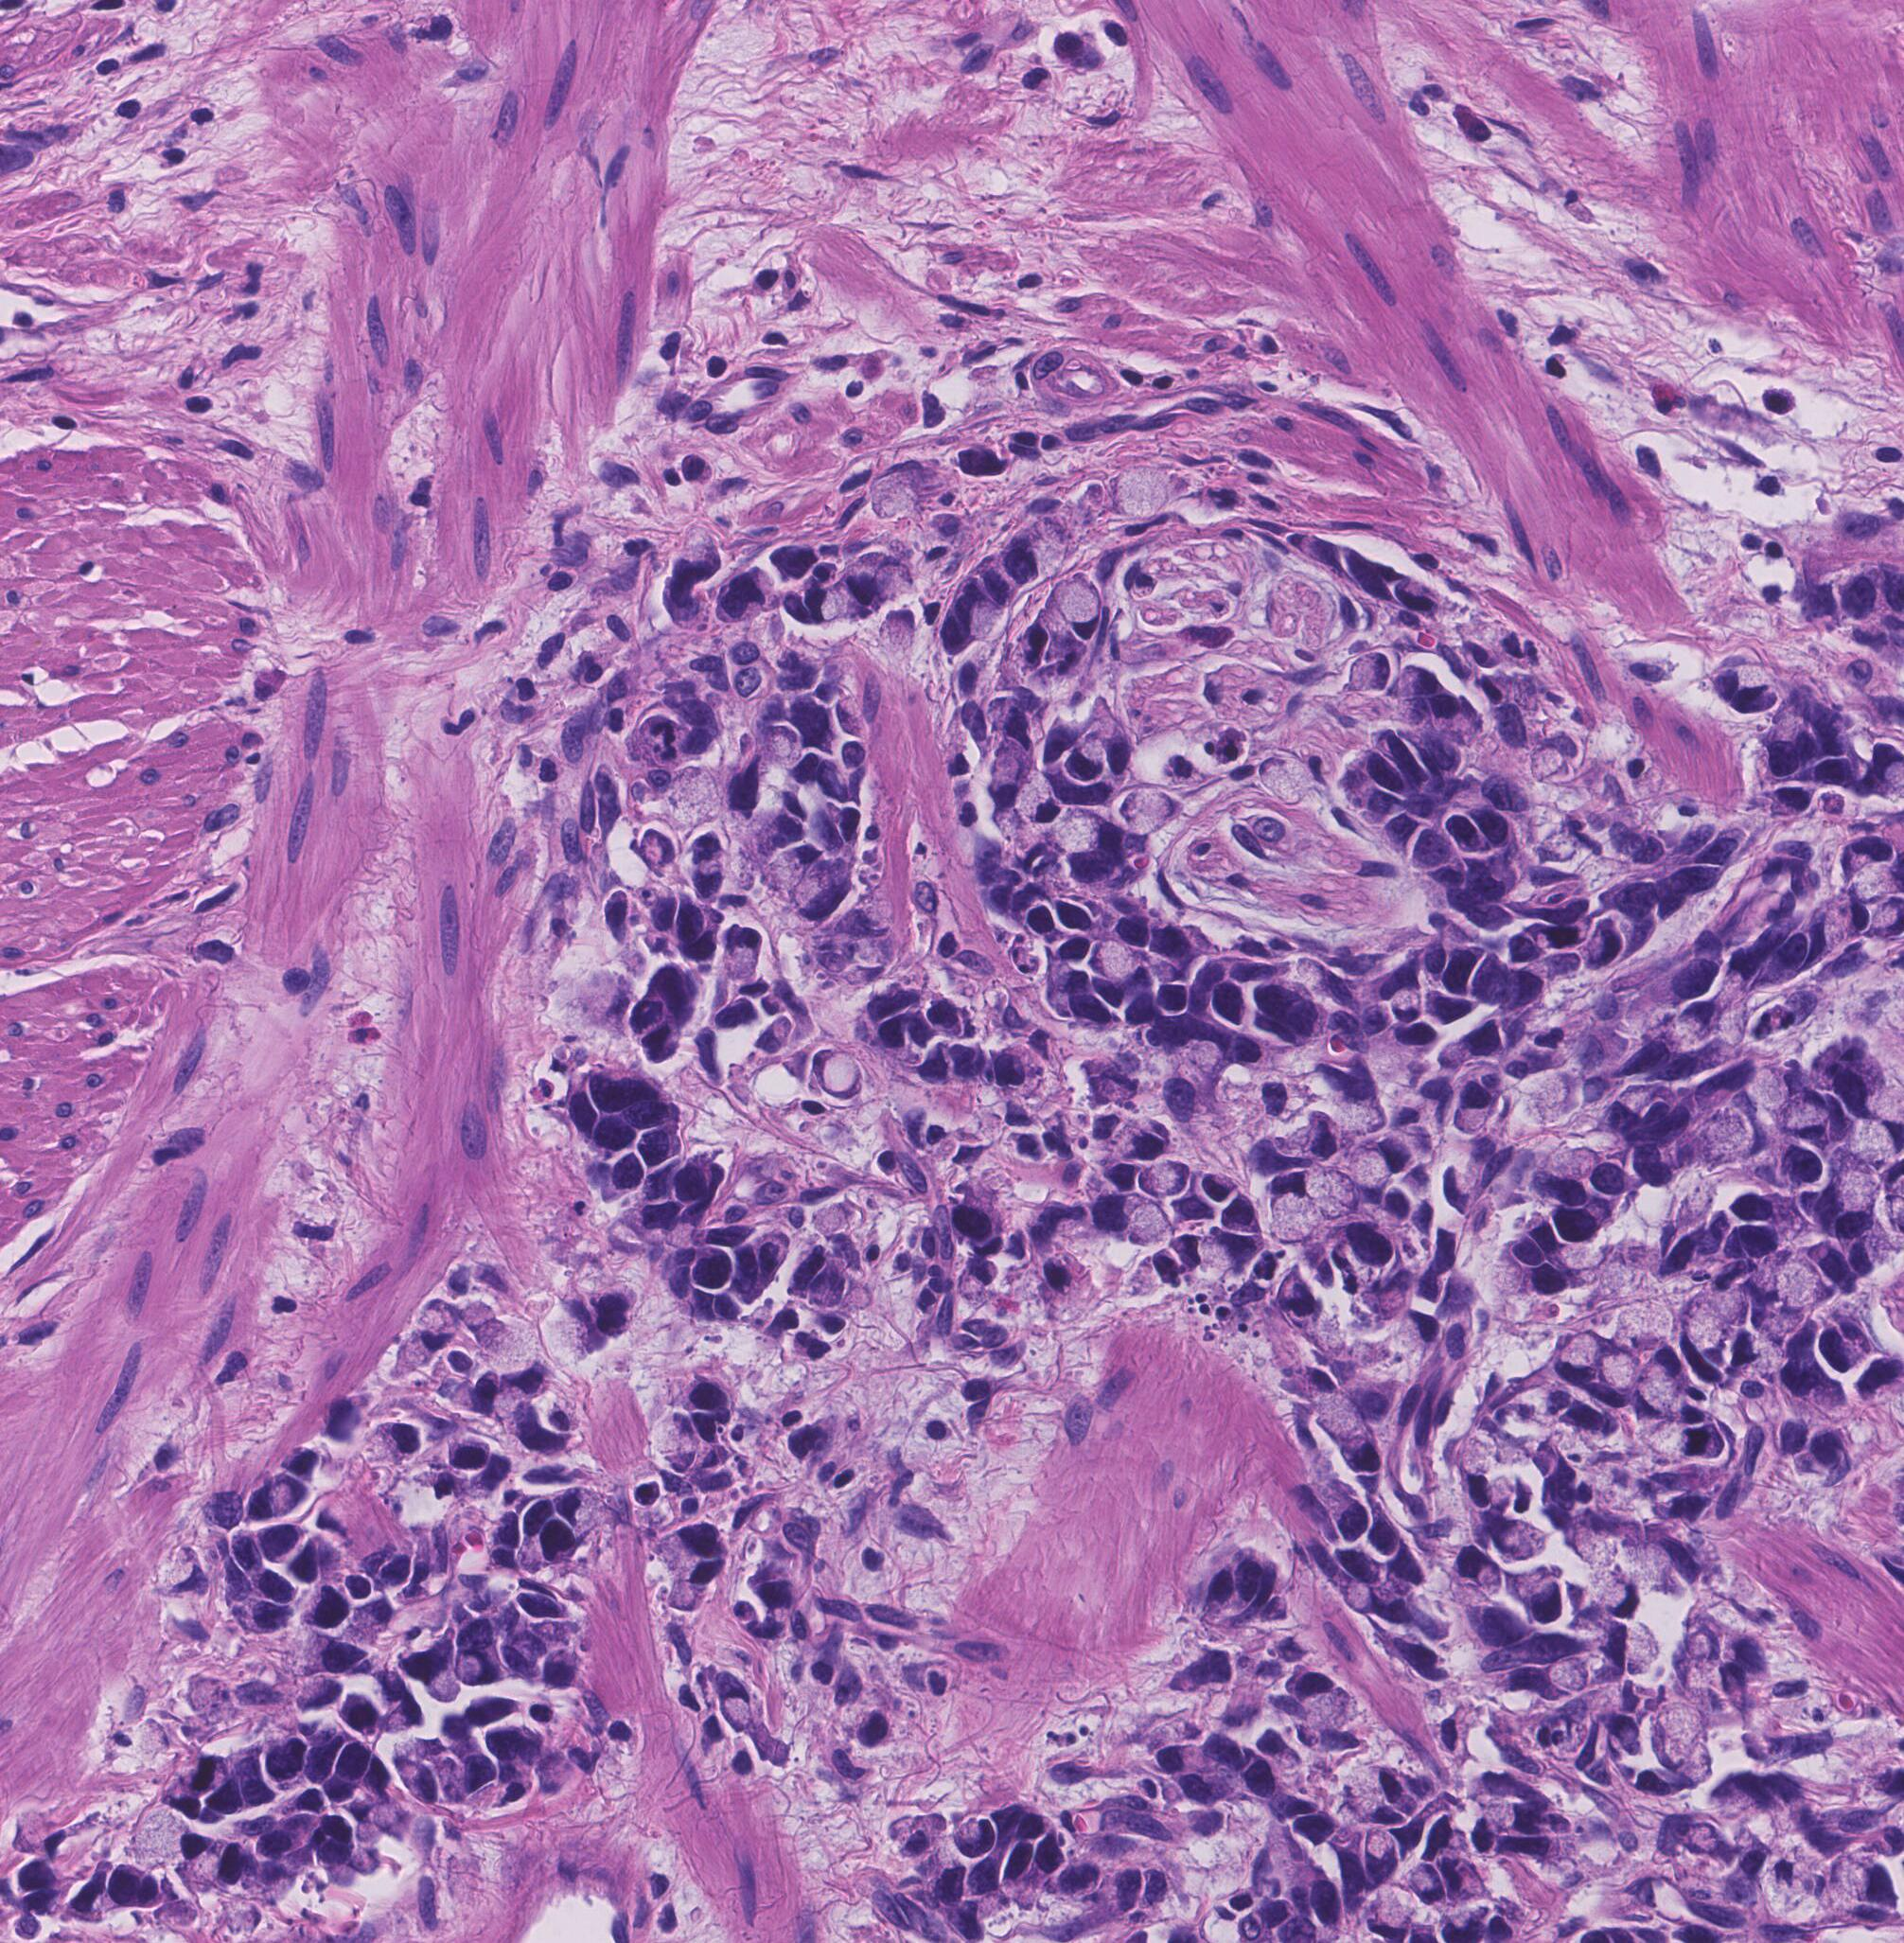ring_cell_cancer: (1817, 1031, 1887, 1121), (1670, 1294, 1737, 1383), (1039, 1242, 1104, 1322), (1257, 978, 1330, 1046), (1648, 1526, 1717, 1594), (1261, 1169, 1322, 1245), (1831, 1146, 1880, 1238), (1710, 1763, 1782, 1823), (1561, 1507, 1634, 1565), (1656, 1694, 1709, 1774), (1343, 1762, 1409, 1824), (640, 1519, 738, 1561), (1731, 1223, 1787, 1296), (134, 1810, 201, 1871), (1311, 1476, 1369, 1545), (1290, 1673, 1358, 1730), (797, 851, 851, 923), (1395, 1795, 1461, 1852), (645, 961, 703, 1026), (577, 970, 633, 1036), (1334, 1071, 1390, 1137), (1597, 1329, 1644, 1408), (1526, 1444, 1585, 1505), (1344, 1135, 1411, 1190), (1768, 1667, 1834, 1721), (1498, 1230, 1547, 1301), (713, 569, 778, 623), (713, 1669, 767, 1734), (1745, 1725, 1839, 1762), (622, 712, 690, 762), (1036, 989, 1121, 1029), (1320, 1415, 1379, 1472), (785, 696, 840, 757), (1006, 525, 1060, 588), (884, 1803, 947, 1858), (1060, 809, 1137, 853), (1452, 1434, 1498, 1507), (950, 579, 1004, 640), (1780, 1252, 1834, 1313), (1123, 1247, 1184, 1301), (1112, 467, 1177, 518), (1639, 965, 1714, 1006), (1703, 1115, 1775, 1158), (242, 1474, 314, 1517), (816, 1045, 870, 1102), (1491, 1512, 1550, 1565), (1597, 874, 1665, 919), (591, 1067, 668, 1108), (1379, 1638, 1449, 1681), (1350, 1271, 1414, 1319), (1533, 1151, 1587, 1207), (1587, 1570, 1642, 1624), (1597, 1624, 1651, 1680), (1531, 1073, 1585, 1128), (785, 1415, 842, 1467), (556, 1490, 628, 1531), (1057, 579, 1105, 640), (1470, 1603, 1534, 1648), (992, 1040, 1046, 1094), (588, 1277, 636, 1336), (296, 1585, 356, 1634), (1475, 965, 1541, 1008), (473, 1317, 539, 1360), (663, 773, 724, 820), (1799, 576, 1846, 637), (1290, 1108, 1343, 1162), (1513, 1571, 1566, 1626), (1452, 1545, 1506, 1598), (670, 1563, 722, 1617), (181, 1676, 234, 1730), (1259, 752, 1311, 806), (758, 841, 814, 891), (1480, 764, 1536, 815), (722, 921, 765, 985), (521, 1519, 579, 1568), (1688, 1064, 1761, 1102), (1166, 1650, 1236, 1690), (1839, 565, 1887, 624), (1224, 1664, 1266, 1730), (952, 1184, 997, 1245), (1766, 1135, 1820, 1186), (1733, 1191, 1801, 1231), (303, 1633, 371, 1673), (1604, 1080, 1653, 1135), (1820, 1317, 1869, 1373), (192, 1838, 248, 1887), (230, 1751, 279, 1807), (1198, 1226, 1255, 1273), (722, 752, 764, 816), (856, 973, 921, 1015), (1618, 1031, 1683, 1073), (1554, 1327, 1599, 1387), (1651, 1223, 1695, 1284), (671, 1374, 738, 1415), (230, 1598, 296, 1638), (160, 1551, 213, 1601), (394, 1326, 448, 1374), (1679, 1819, 1733, 1868), (1278, 1364, 1343, 1404), (1360, 959, 1425, 999), (1344, 1380, 1404, 1423), (670, 530, 720, 581), (659, 576, 710, 626), (1552, 1202, 1613, 1244), (1531, 731, 1583, 780), (1630, 1137, 1679, 1190), (1470, 1770, 1543, 1805), (635, 825, 687, 874), (877, 464, 924, 518), (1578, 1019, 1623, 1074), (1444, 1027, 1512, 1064), (1280, 1266, 1322, 1326), (797, 935, 861, 973), (755, 1565, 806, 1613), (497, 1362, 558, 1402), (1724, 1624, 1765, 1685), (1775, 1090, 1831, 1134), (415, 1650, 459, 1706), (1773, 989, 1831, 1031), (1308, 1169, 1358, 1216), (392, 1756, 439, 1807), (164, 1605, 216, 1650), (1587, 1151, 1632, 1203), (1357, 752, 1411, 795), (237, 1673, 291, 1716), (1644, 1092, 1698, 1135), (1112, 1120, 1173, 1158), (1763, 719, 1801, 780), (1533, 1259, 1588, 1301), (1766, 1769, 1824, 1809), (1686, 1612, 1717, 1685), (1153, 923, 1203, 968), (1166, 1071, 1210, 1123), (1404, 827, 1458, 869), (1817, 903, 1871, 945), (745, 816, 809, 851), (1491, 1835, 1571, 1863), (619, 1205, 680, 1242), (256, 1816, 317, 1852), (1705, 666, 1780, 696), (976, 562, 1022, 610), (1430, 687, 1479, 733), (417, 1291, 462, 1340), (1702, 820, 1751, 865), (1433, 1709, 1477, 1760), (563, 1074, 596, 1141), (912, 851, 945, 917), (1480, 1803, 1554, 1833), (1348, 1226, 1402, 1266), (246, 1565, 300, 1605), (452, 1737, 492, 1791), (197, 1486, 246, 1530), (288, 1542, 337, 1585), (844, 556, 887, 605), (1695, 1217, 1730, 1278), (1095, 942, 1144, 985), (1458, 1085, 1499, 1135), (117, 1866, 167, 1908), (265, 1734, 302, 1791), (816, 1202, 868, 1242), (1374, 1578, 1414, 1631), (1771, 931, 1812, 984), (1728, 1831, 1768, 1884), (1567, 1687, 1630, 1720), (363, 1421, 417, 1460), (319, 1809, 354, 1868), (1266, 1076, 1311, 1121), (596, 1111, 642, 1156), (1125, 1202, 1172, 1245), (689, 1242, 732, 1289), (1083, 1046, 1139, 1083), (1383, 1024, 1438, 1060), (504, 1629, 544, 1680), (1425, 985, 1477, 1024), (253, 1524, 307, 1561), (1402, 938, 1449, 980), (1683, 921, 1730, 963), (926, 991, 966, 1040), (636, 1125, 689, 1162), (1365, 1830, 1402, 1882), (1618, 825, 1670, 862), (996, 795, 1029, 853), (340, 1692, 384, 1735), (1327, 1006, 1369, 1052), (804, 809, 844, 856), (950, 1816, 997, 1856), (1212, 975, 1250, 1024), (1208, 1552, 1238, 1615), (1813, 1425, 1850, 1476), (1153, 1746, 1219, 1774), (1017, 780, 1058, 823), (1243, 1758, 1285, 1802), (486, 1727, 539, 1762), (1442, 1167, 1482, 1212), (654, 1418, 701, 1456), (136, 1715, 174, 1762), (755, 1723, 793, 1770), (1677, 1428, 1731, 1462), (1088, 1073, 1139, 1108), (1304, 1727, 1363, 1756), (1095, 1193, 1137, 1235), (603, 1156, 645, 1198), (1440, 813, 1484, 853), (877, 556, 915, 602), (1182, 1770, 1234, 1803), (1763, 787, 1815, 820), (345, 1594, 392, 1631), (933, 605, 968, 654), (677, 893, 711, 942), (642, 886, 677, 935), (677, 1406, 725, 1441), (816, 760, 856, 802), (677, 1162, 718, 1202), (1257, 1728, 1299, 1769), (804, 581, 844, 623), (755, 1015, 795, 1057), (1234, 1033, 1276, 1073), (1416, 1067, 1458, 1108), (474, 1263, 516, 1303), (1221, 1191, 1259, 1235), (1348, 656, 1393, 692), (1125, 790, 1170, 827), (771, 542, 816, 579), (1166, 1230, 1203, 1275), (999, 701, 1032, 750), (546, 1645, 579, 1694), (1069, 741, 1109, 781), (1583, 924, 1623, 965), (1846, 830, 1885, 872), (382, 1697, 424, 1735), (1240, 1552, 1268, 1610), (429, 1352, 483, 1381), (835, 907, 889, 937), (457, 1650, 502, 1685), (635, 1026, 680, 1060), (364, 1551, 410, 1585), (1273, 1790, 1320, 1823), (882, 605, 915, 652), (352, 1793, 378, 1852), (521, 1493, 560, 1533), (371, 1800, 411, 1838), (448, 1437, 492, 1472), (622, 996, 666, 1031), (1170, 1191, 1214, 1226), (1390, 666, 1444, 694), (537, 1751, 570, 1796), (1139, 1163, 1189, 1193), (1554, 1662, 1601, 1694), (1008, 1807, 1055, 1838), (994, 743, 1030, 783), (234, 1533, 270, 1573), (605, 888, 629, 947), (305, 1734, 335, 1783), (373, 1664, 411, 1701), (685, 835, 725, 870), (1414, 935, 1444, 982), (1004, 1838, 1034, 1885), (289, 1683, 345, 1708), (1053, 961, 1090, 998), (814, 1261, 846, 1303), (1186, 1810, 1229, 1840), (1384, 815, 1421, 849), (1343, 1578, 1377, 1613), (228, 1899, 263, 1934), (1037, 1838, 1064, 1884), (455, 1589, 506, 1612), (694, 1442, 734, 1469), (1201, 1174, 1236, 1203), (788, 996, 813, 1038), (450, 1258, 471, 1306), (762, 987, 792, 1019), (462, 1303, 497, 1329), (643, 928, 673, 956), (546, 1406, 579, 1430)
